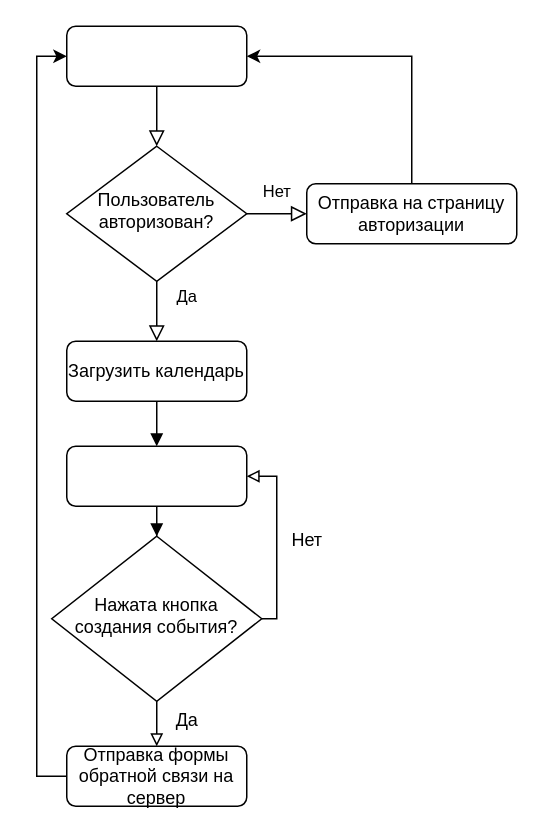
This 543x834 diagram has some shape labels left out. Here are the shapes that lost their labels. From the top down, the centre of each, then its label:
At (x=156, y=55): "Начало".
At (x=156, y=475): "Ожидать создание события".
